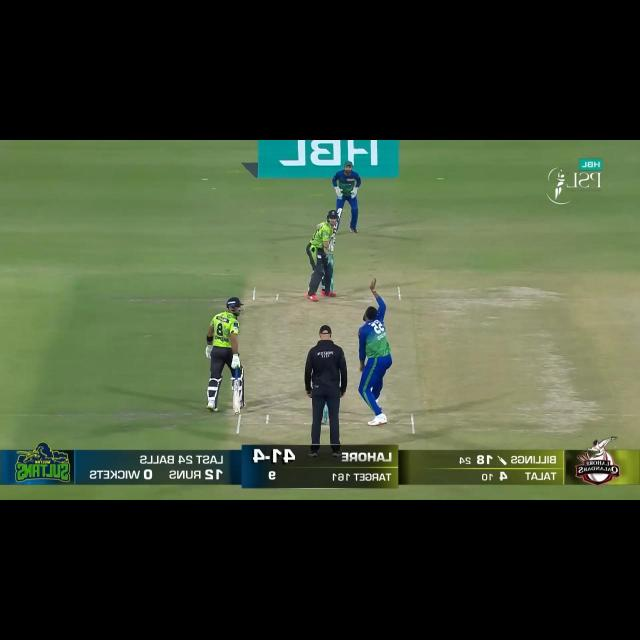bat: (232, 377, 241, 417), (332, 210, 342, 238)
toe: (234, 409, 240, 418), (337, 208, 343, 214)
